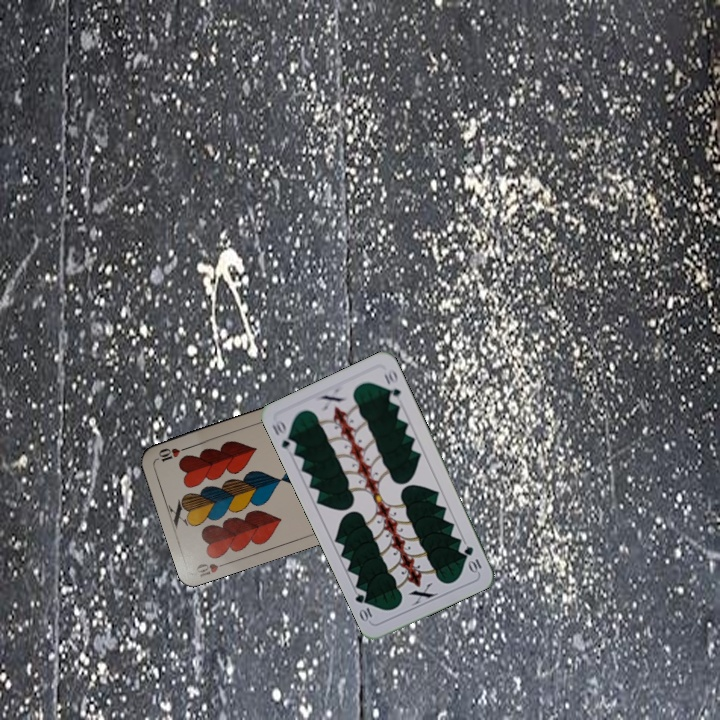G10: (268, 416, 299, 456), (460, 542, 484, 575)
H10: (191, 558, 232, 580)
